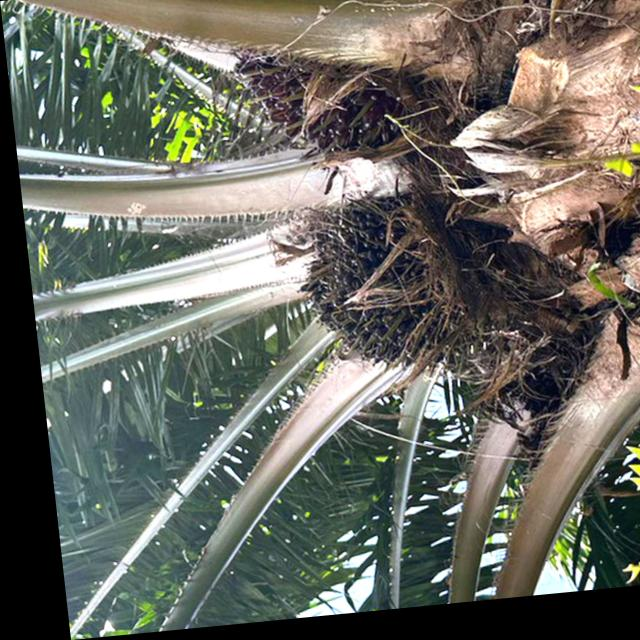unripe: (274, 192, 466, 392)
